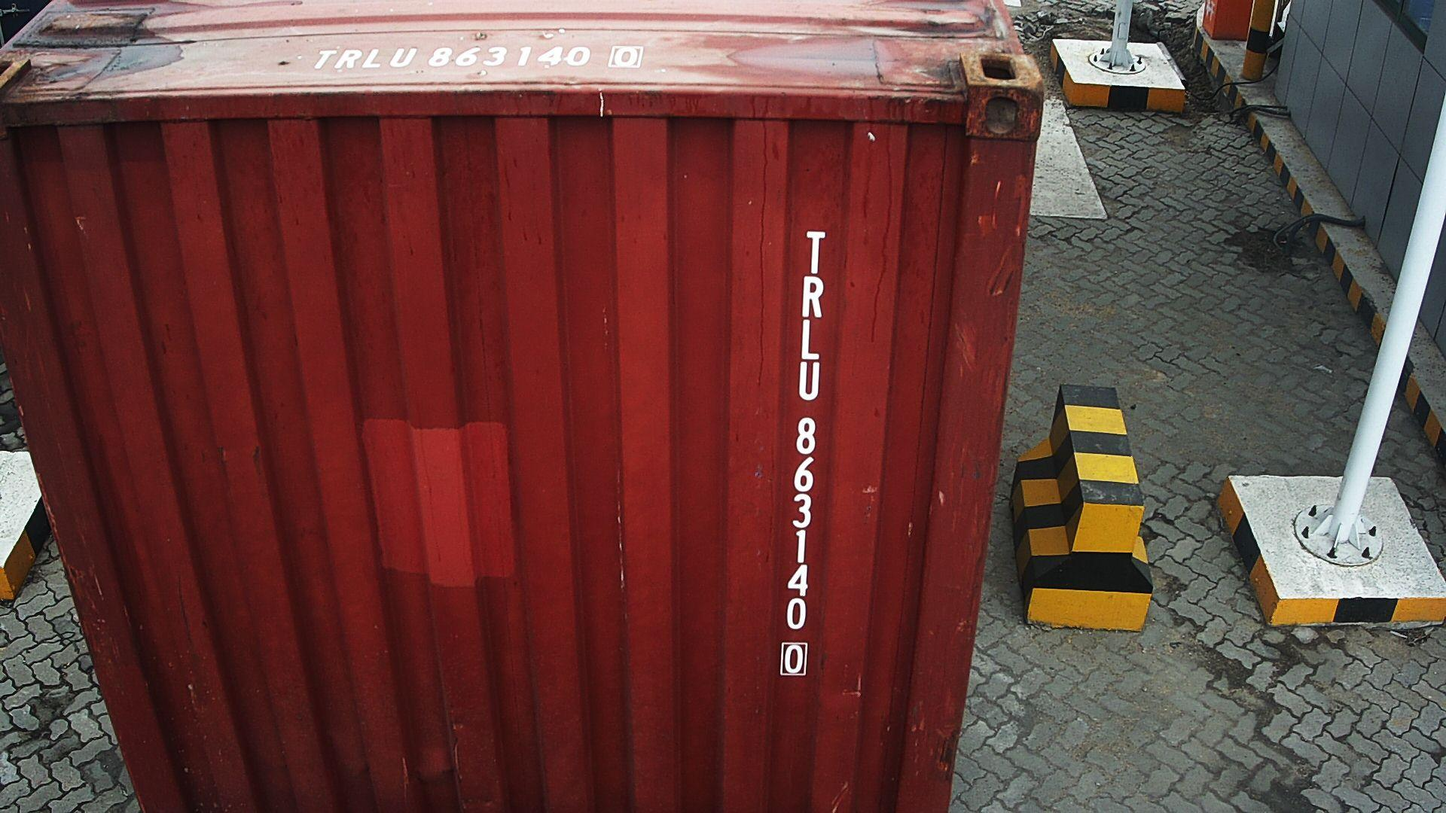container-numbers: (776, 227, 830, 683), (304, 41, 648, 73)
